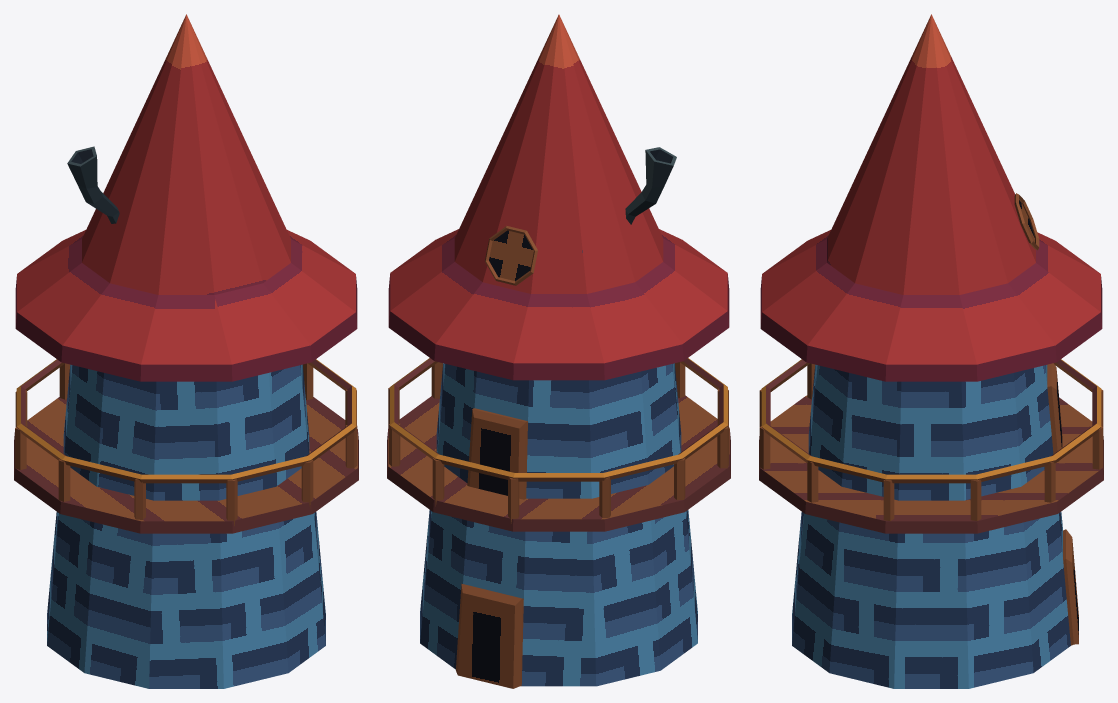
Rendered from mage_tower.gltf.
3 views of the same model, side by side, from view 1: azimuth 30°, elevation 25°; view 2: azimuth 150°, elevation 25°; view 3: azimuth 270°, elevation 25° (orthographic).
Visible parts, largest first — view 1: base, wood_holding, chimney, pole10; view 2: base, wood_holding, circle, chimney, torus, pole9; view 3: base, wood_holding, torus.
Boxes of the visible parts, box(x1,y1,x2,y2) form: base: box(14, 14, 358, 688); wood_holding: box(16, 359, 356, 483); chimney: box(67, 146, 119, 223); pole10: box(301, 459, 313, 508); base: box(387, 14, 730, 688); wood_holding: box(390, 358, 727, 481); circle: box(489, 230, 533, 281); chimney: box(625, 147, 676, 224); torus: box(485, 226, 537, 285); pole9: box(432, 458, 444, 506); base: box(759, 14, 1103, 688); wood_holding: box(761, 359, 1101, 483); torus: box(1014, 193, 1039, 250).
Bounding box in the file's own units: 1.24 × 2.44 × 1.24.
1 material, 1 textured.
